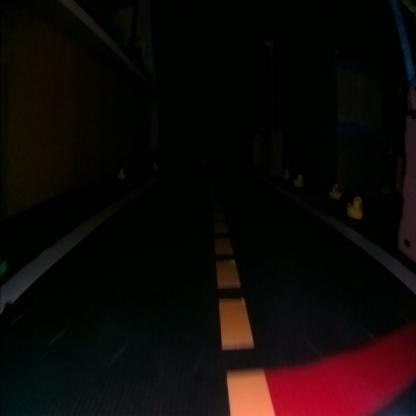Duckie: (348, 196, 364, 218), (330, 184, 342, 198), (294, 174, 303, 187), (119, 167, 125, 179)
